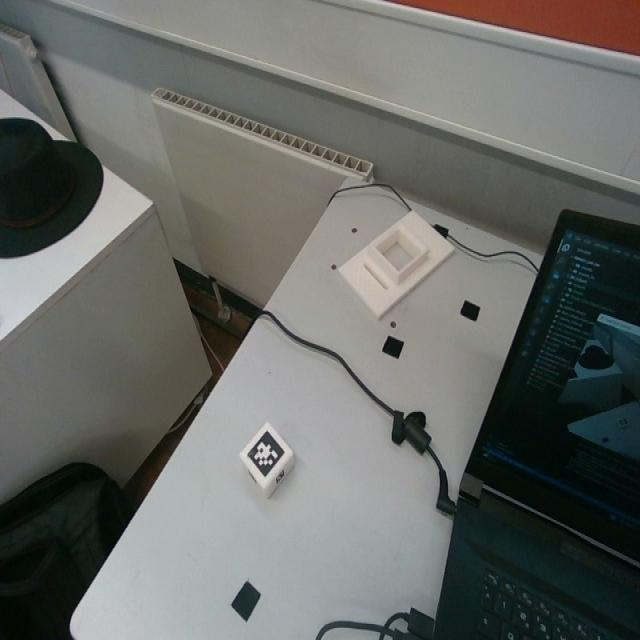Cube: (240, 420, 296, 499)
